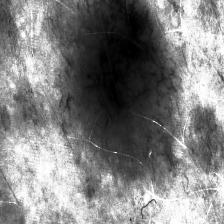Benign Marking or Mole: (78, 0, 173, 122)
